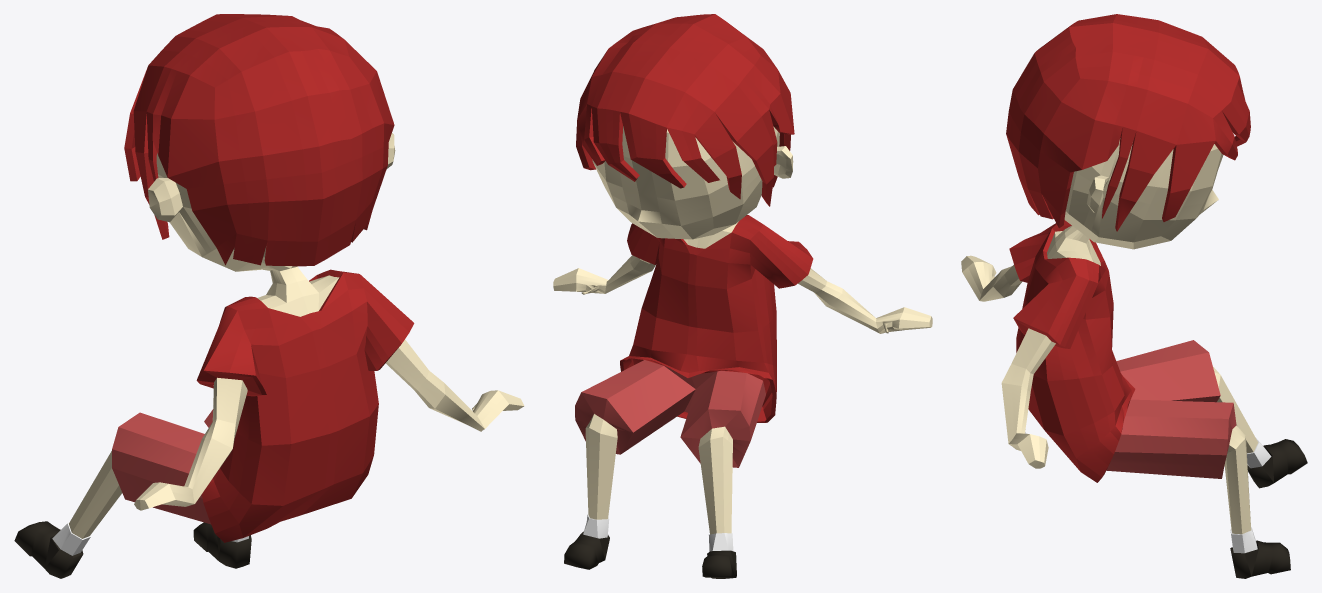
File: woodHouseCarCharacter.dae
3 views of the same model, side by side, from view 1: azimuth 30°, elevation 25°; view 2: azimuth 150°, elevation 25°; view 3: azimuth 270°, elevation 25° (orthographic). The views are drawn at different scales.
Visible parts, largest first — view 1: Character; view 2: Character; view 3: Character.
Part boxes in pixels (box(x1,y1,x2,y2)): Character: box(14, 14, 524, 578); Character: box(553, 14, 932, 578); Character: box(961, 14, 1307, 578).
Size of the model in its own units: 7.74 by 10.59 by 6.25.
Materials: 1 (1 with a texture image).
